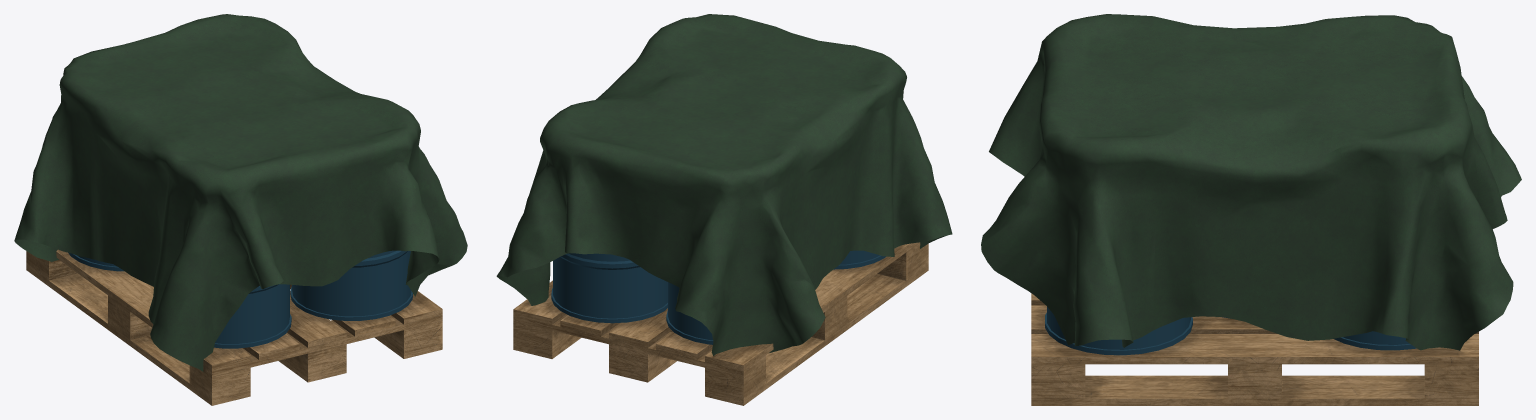
The model's file is barrels_on_a_pallet.glb.
3 renders of one model, left to right at view 1: azimuth 30°, elevation 25°; view 2: azimuth 150°, elevation 25°; view 3: azimuth 270°, elevation 25°, orthographic. The views are drawn at different scales.
Parts seen in each view (by area): view 1: Trapka, Poddon.001, Metal Boch.007, Metal Boch.006; view 2: Trapka, Poddon.001, Metal Boch.008, Metal Boch.009, Metal Boch.006; view 3: Trapka, Poddon.001, Metal Boch.007, Metal Boch.008.
Boxes of the visible parts, x1,y1,x2,y2 form: Trapka: [14, 14, 467, 371]; Poddon.001: [26, 249, 442, 405]; Metal Boch.007: [290, 250, 412, 320]; Metal Boch.006: [214, 284, 291, 348]; Trapka: [496, 14, 952, 355]; Poddon.001: [513, 242, 928, 405]; Metal Boch.008: [551, 253, 667, 323]; Metal Boch.009: [666, 282, 713, 344]; Metal Boch.006: [833, 250, 885, 269]; Trapka: [981, 14, 1521, 350]; Poddon.001: [1031, 293, 1478, 405]; Metal Boch.007: [1045, 307, 1192, 355]; Metal Boch.008: [1333, 331, 1416, 350].
Bounding box in the file's own units: 1.92 × 1.23 × 2.29.
3 materials, 3 textured.
